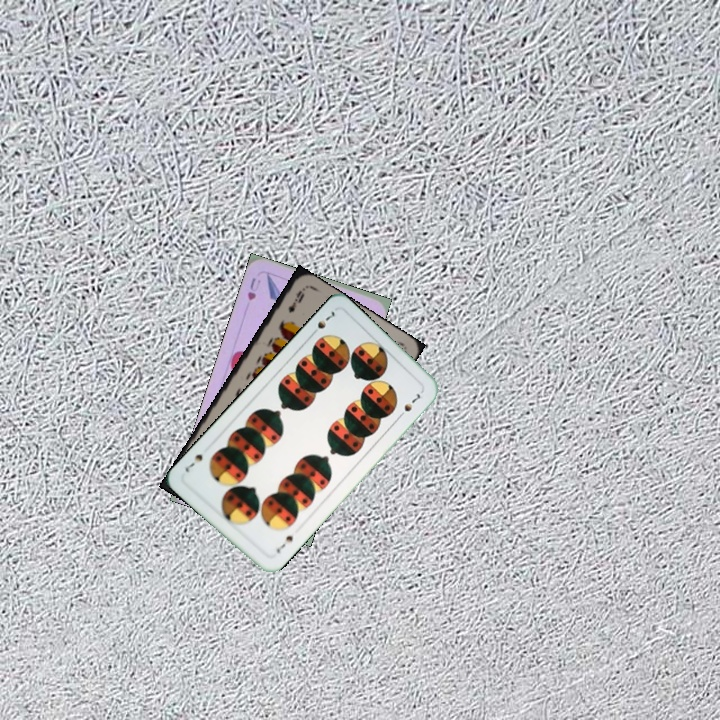E9: (284, 286, 307, 315)
HU: (243, 274, 263, 303)
S7: (306, 307, 337, 339), (272, 531, 296, 556)
